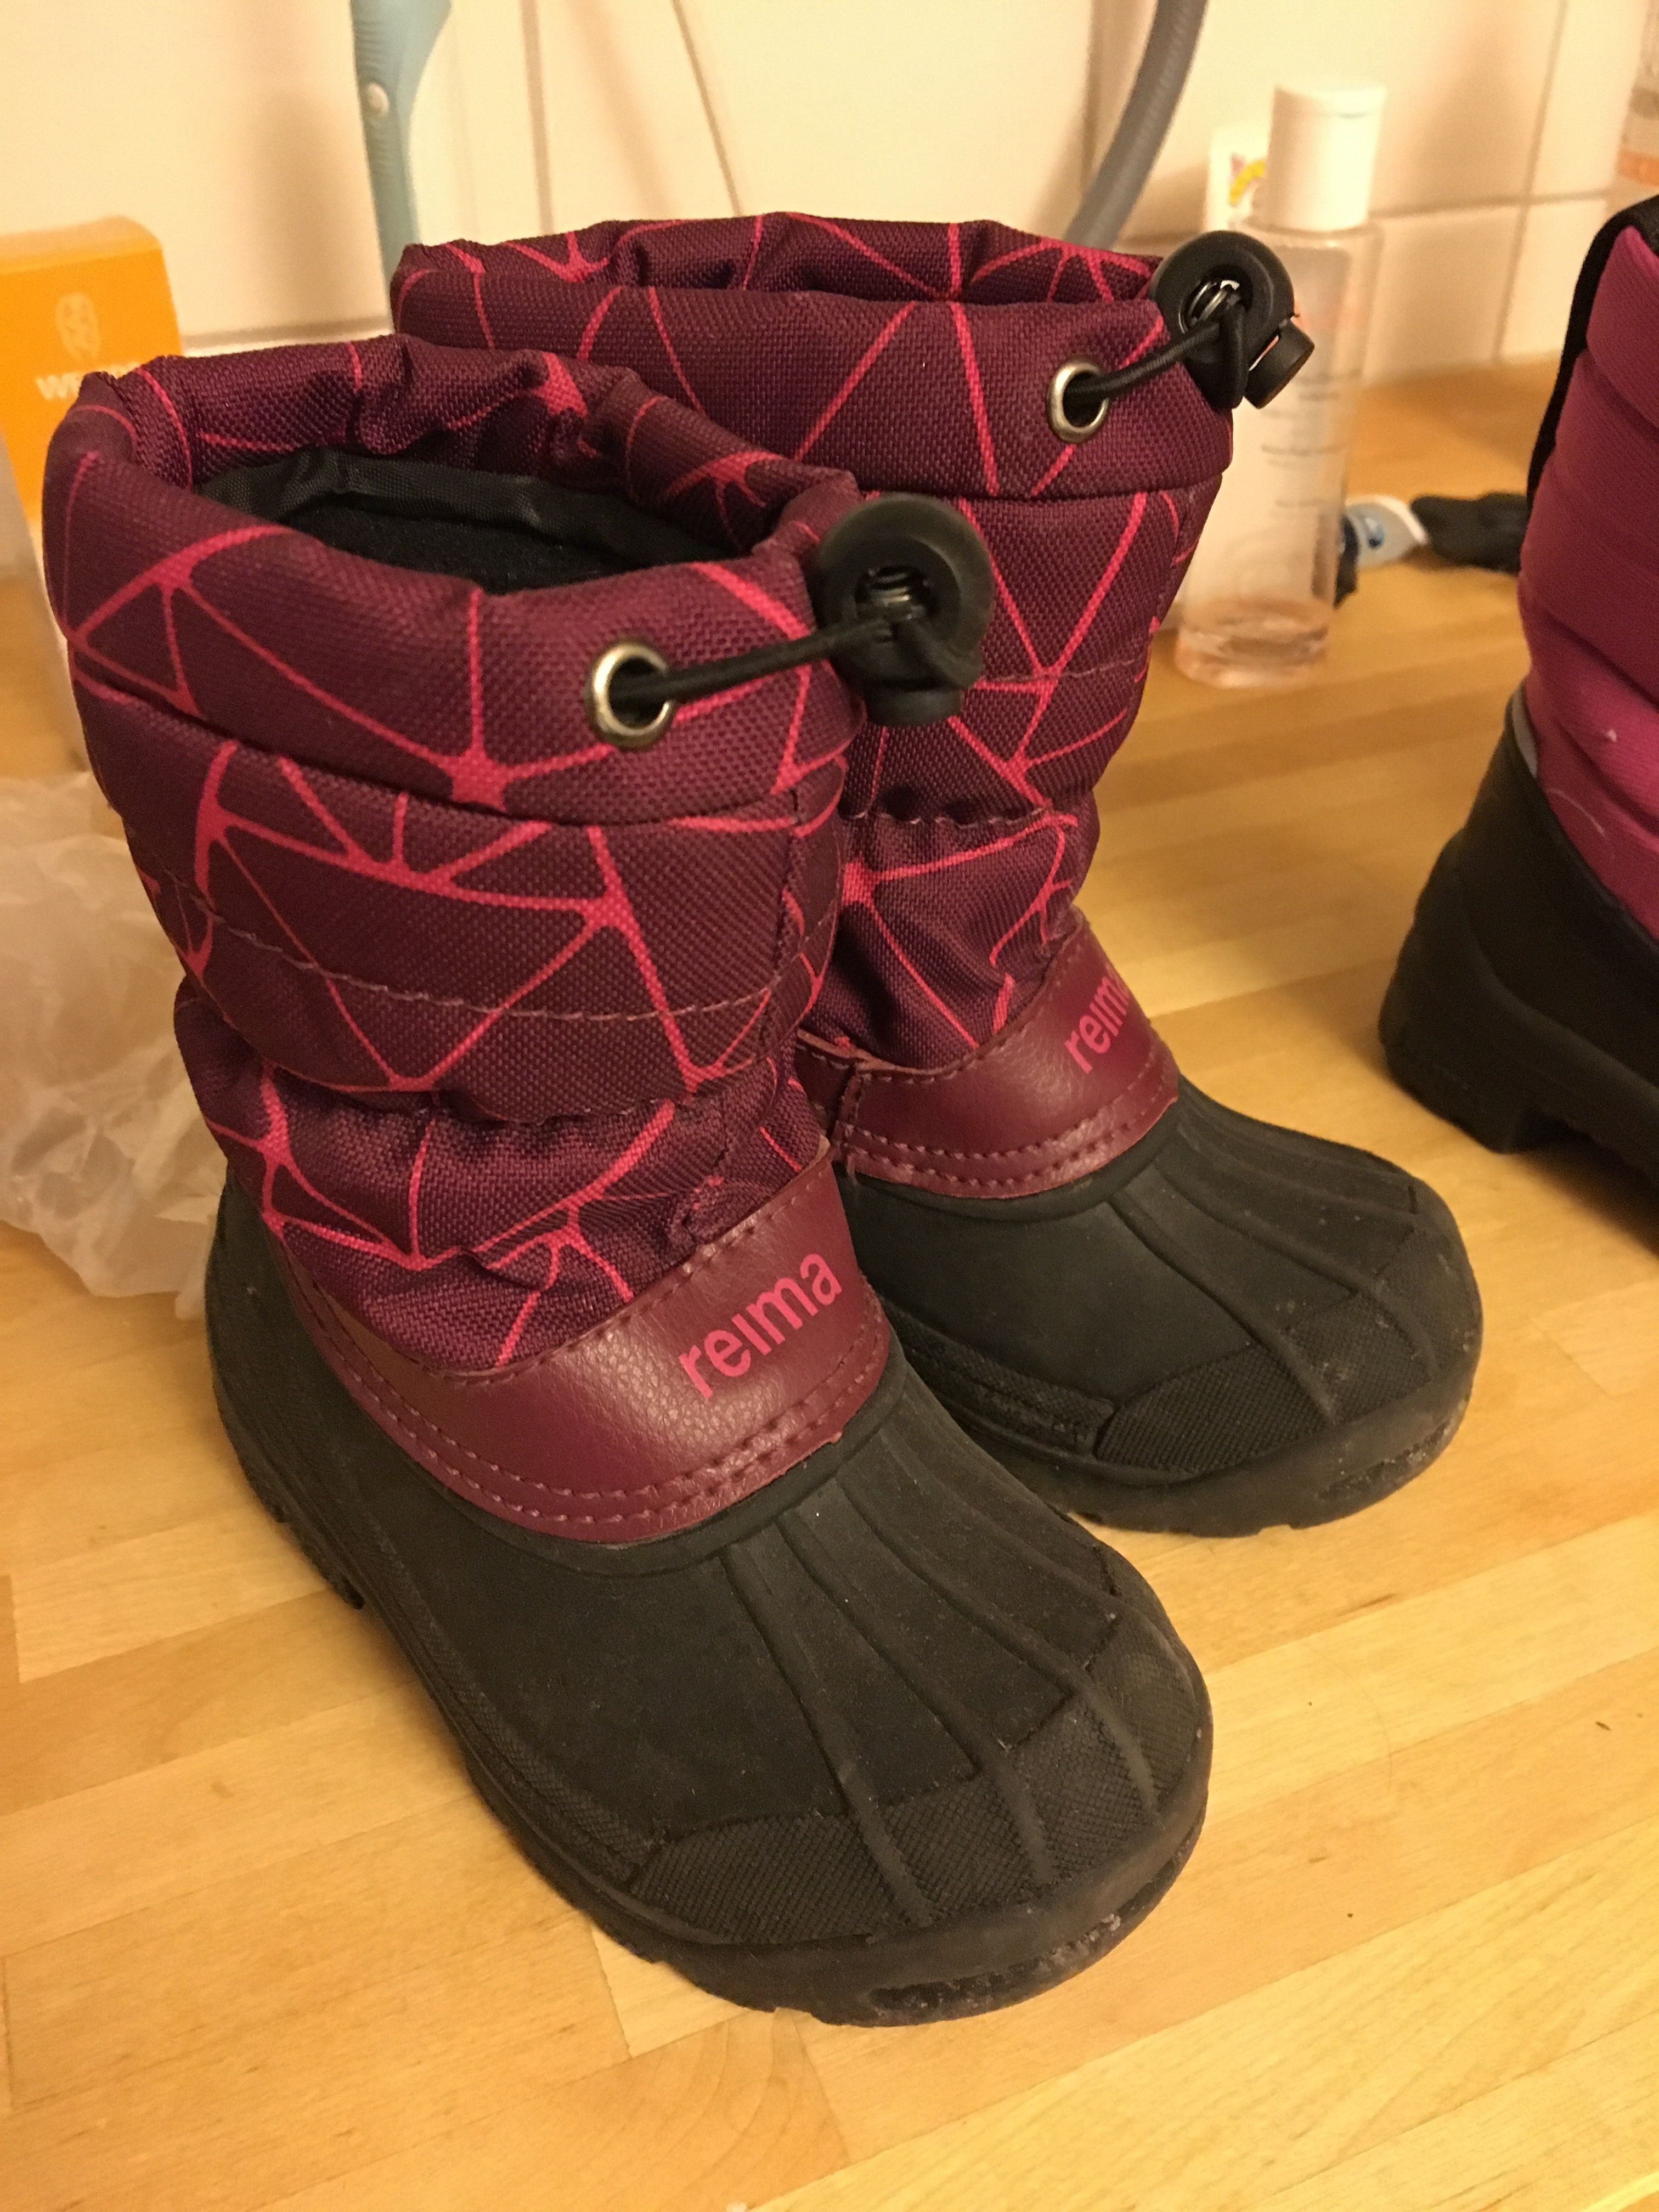clothes: (12, 185, 1495, 2090)
